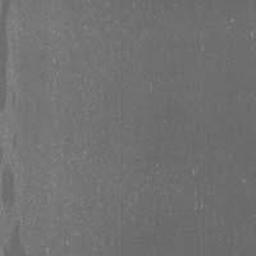Oil spot: (0, 0, 17, 125), (0, 166, 18, 219), (1, 227, 24, 256)
